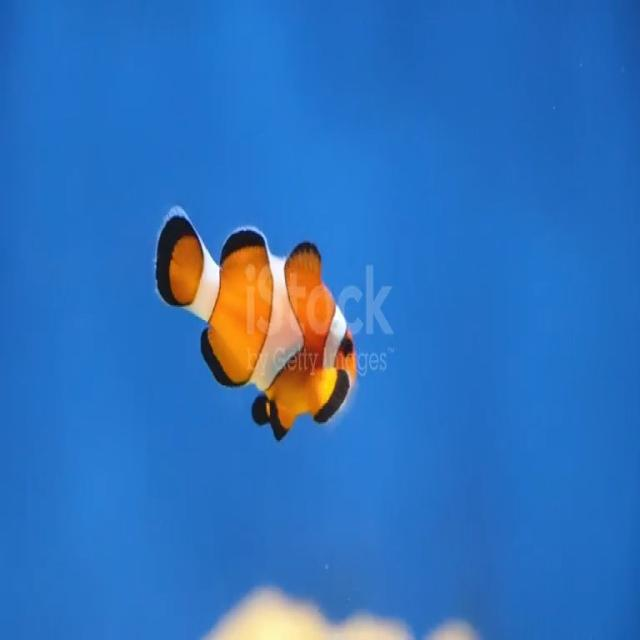fish: (148, 172, 362, 456)
